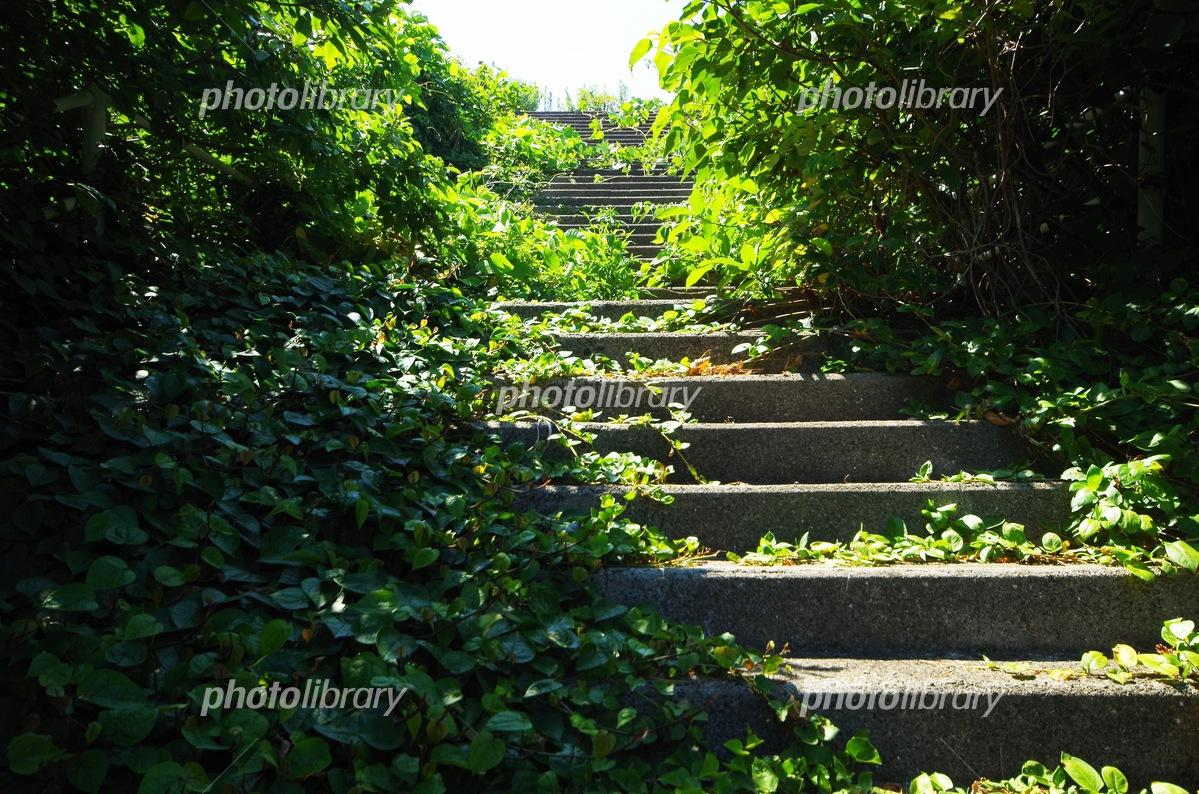overgrown grass: (0, 275, 634, 793), (352, 177, 639, 379), (623, 607, 880, 793), (724, 504, 1198, 572), (499, 112, 668, 172), (1046, 620, 1198, 685), (909, 758, 1128, 793), (603, 301, 756, 334), (614, 350, 773, 373), (632, 526, 719, 564), (1140, 781, 1188, 793)
